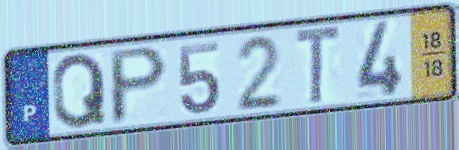2: (233, 32, 284, 114)
4: (354, 18, 406, 100)
5: (175, 38, 223, 116)
P: (108, 43, 171, 128)
Q: (49, 50, 110, 131)
T: (292, 22, 344, 109)
